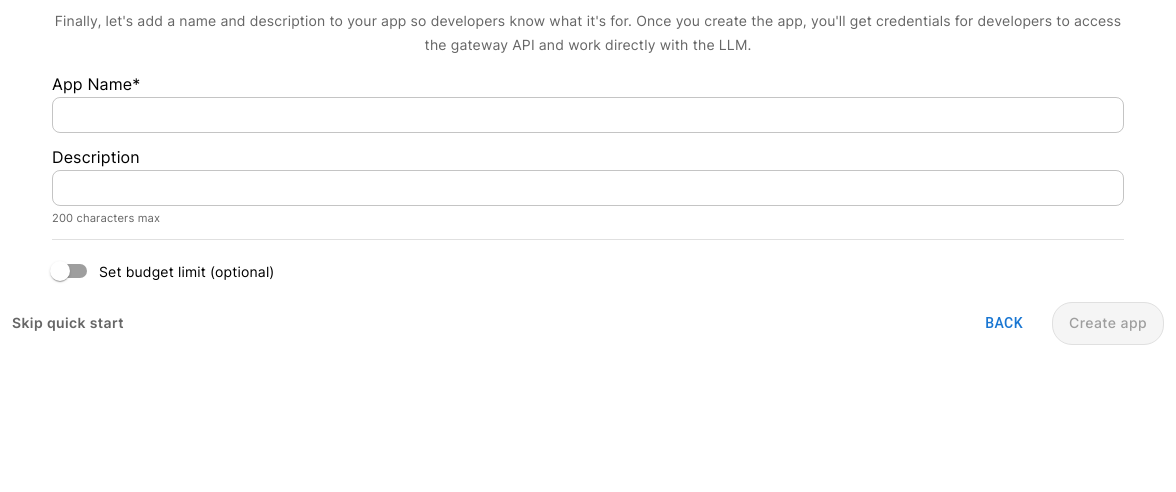
Scenario: AppDetailsStep Component › validates form fields correctly
Expected: the button "Create app" is disabled, 1052,302 -> 1164,345
Note: Enter app name
Type "Test App" into the field below "App Name*" at (588, 115), box 52,97 -> 1124,133
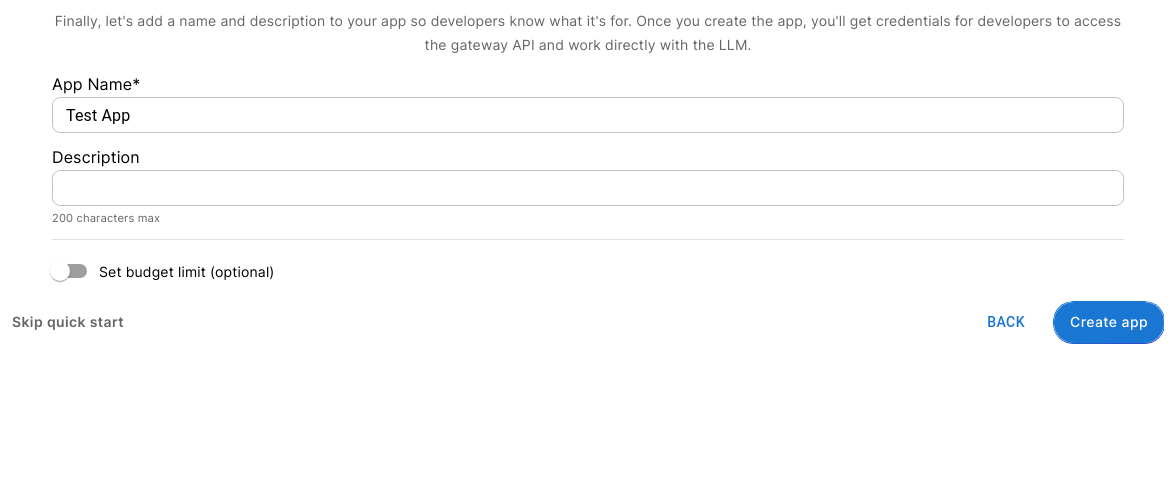
Now the button "Create app" is enabled, box 1054,302 -> 1164,343
Note: Enable budget but don't enter amount
Click the checkbox at (162, 271), box 50,261 -> 275,281
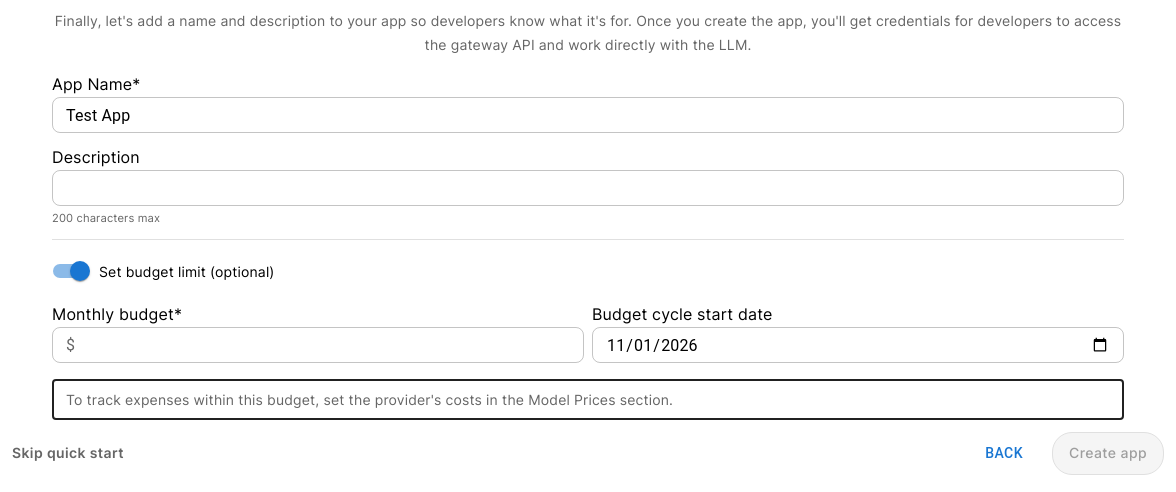
Now the button "Create app" is disabled, box 1052,432 -> 1164,475
Note: Enter budget amount
Type "1000" into the number field at (334, 345), box 83,327 -> 584,363
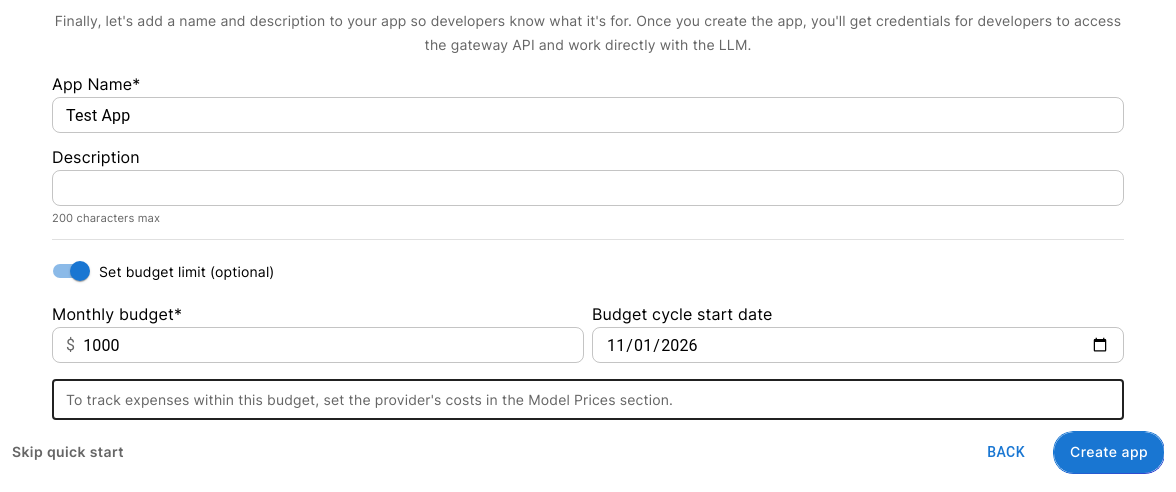
Now the button "Create app" is enabled, box 1054,432 -> 1164,473
